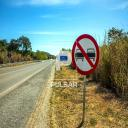NoUltrapassar: (71, 33, 101, 76)
